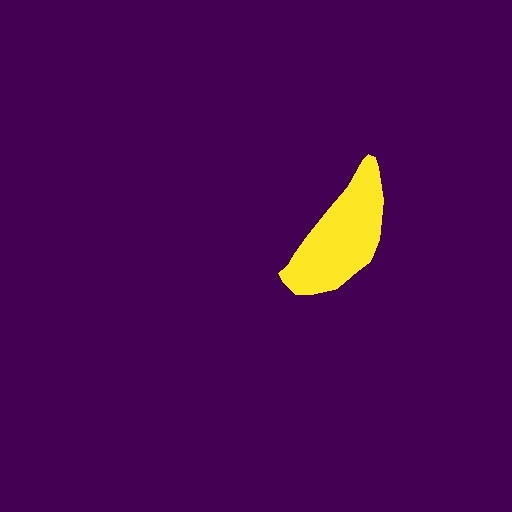Gliomia_tumour: (278, 154, 384, 295)
